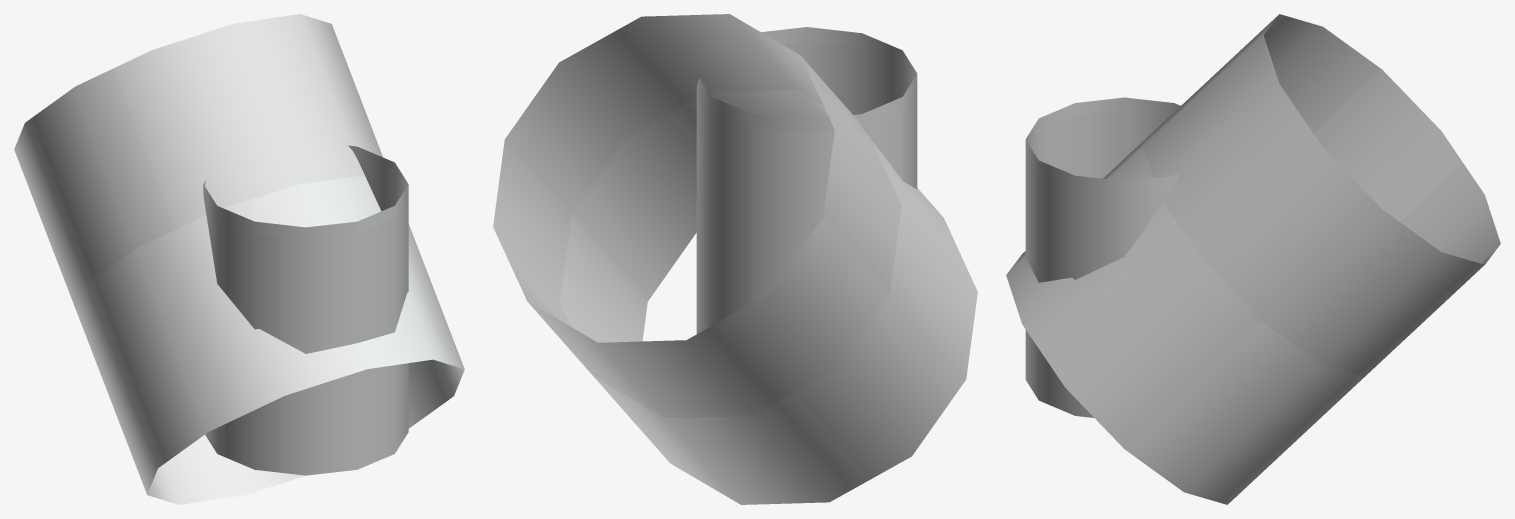
File: luminairearm_truss8ftstraight_c3.obj
3 renders of one model, left to right at view 1: azimuth 30°, elevation 25°; view 2: azimuth 150°, elevation 25°; view 3: azimuth 270°, elevation 25°, orthographic. The views are drawn at different scales.
Parts seen in each view (by area): view 1: luminairearm_truss8ftstraight_c3; view 2: luminairearm_truss8ftstraight_c3; view 3: luminairearm_truss8ftstraight_c3.
Part boxes in pixels (box(x1,y1,x2,y2)): luminairearm_truss8ftstraight_c3: box(14, 14, 464, 504); luminairearm_truss8ftstraight_c3: box(493, 14, 977, 504); luminairearm_truss8ftstraight_c3: box(1006, 14, 1500, 504).
Size of the model in its own units: 0.1562 by 0.2341 by 0.2337.
